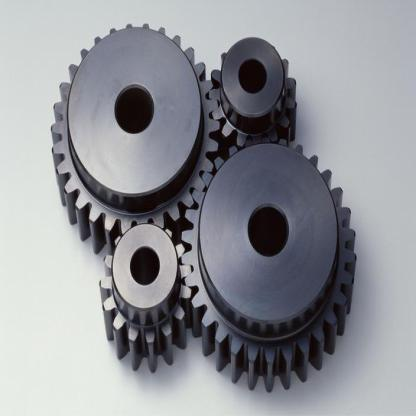FOD: (180, 136, 361, 398), (50, 19, 220, 257), (98, 216, 194, 378), (209, 34, 300, 154)
